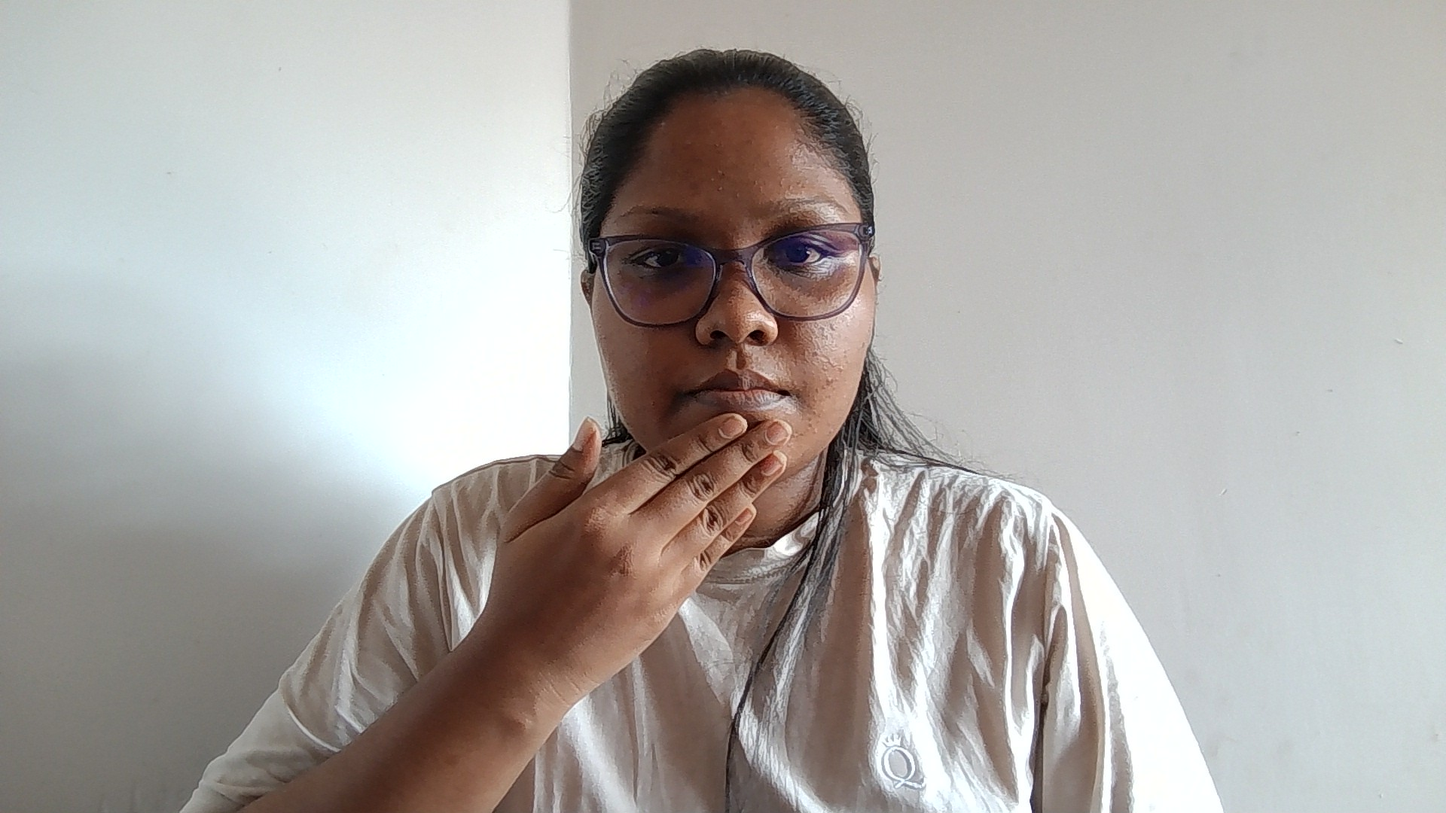Thank You: (446, 391, 931, 705)
